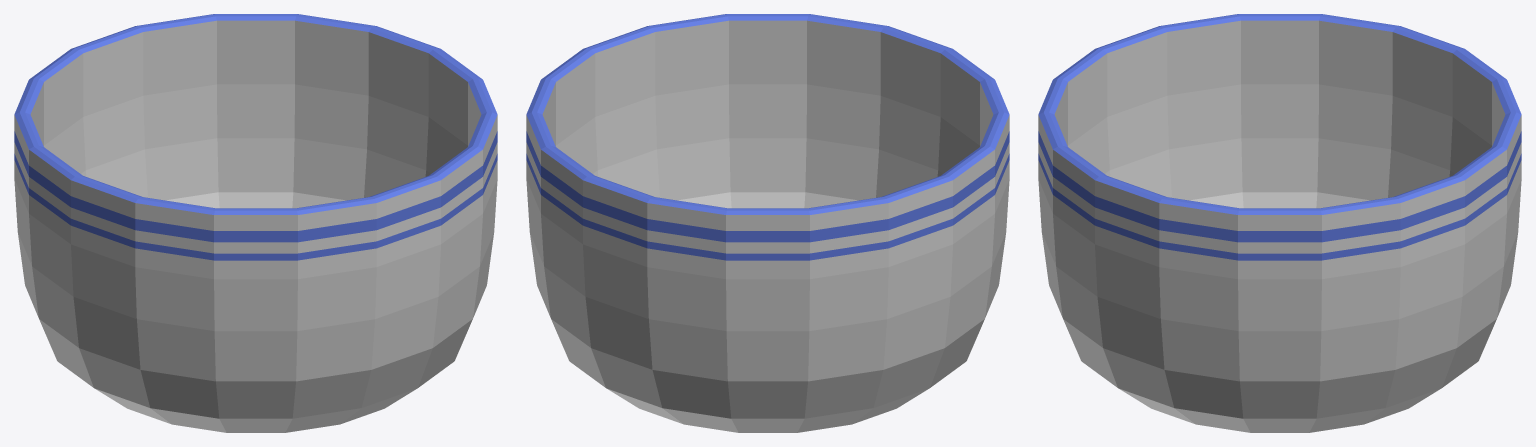
File: Bowl-1-Soup.fbx
3 renders of one model, left to right at view 1: azimuth 30°, elevation 25°; view 2: azimuth 150°, elevation 25°; view 3: azimuth 270°, elevation 25°, orthographic.
Parts seen in each view (by area): view 1: Bowl1Soup; view 2: Bowl1Soup; view 3: Bowl1Soup.
Boxes of the visible parts, left/top/right/bottom form: Bowl1Soup: left=14, top=14, right=497, bottom=432; Bowl1Soup: left=526, top=14, right=1009, bottom=432; Bowl1Soup: left=1038, top=14, right=1521, bottom=432.
Size of the model in its own units: 0.1473 by 0.0907 by 0.1496.
